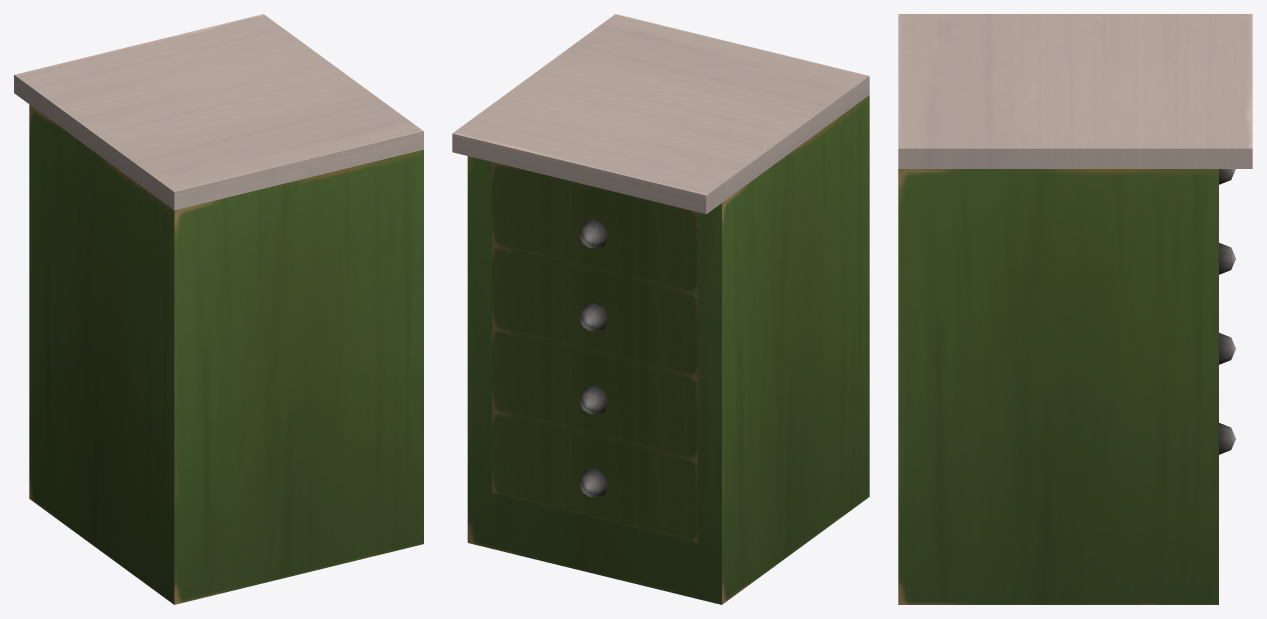
File: FUR0110016.fbx
3 renders of one model, left to right at view 1: azimuth 30°, elevation 25°; view 2: azimuth 150°, elevation 25°; view 3: azimuth 270°, elevation 25°, orthographic. The views are drawn at different scales.
Visible parts, largest first — view 1: smFUR0110016; view 2: smFUR0110016; view 3: smFUR0110016.
Part boxes in pixels (x1,y1,x2,y2): smFUR0110016: (14, 14, 423, 604); smFUR0110016: (452, 14, 869, 604); smFUR0110016: (898, 14, 1252, 604).
Bounding box in the file's own units: 62.38 × 98.63 × 69.39.
Materials: 1 (1 with a texture image).
